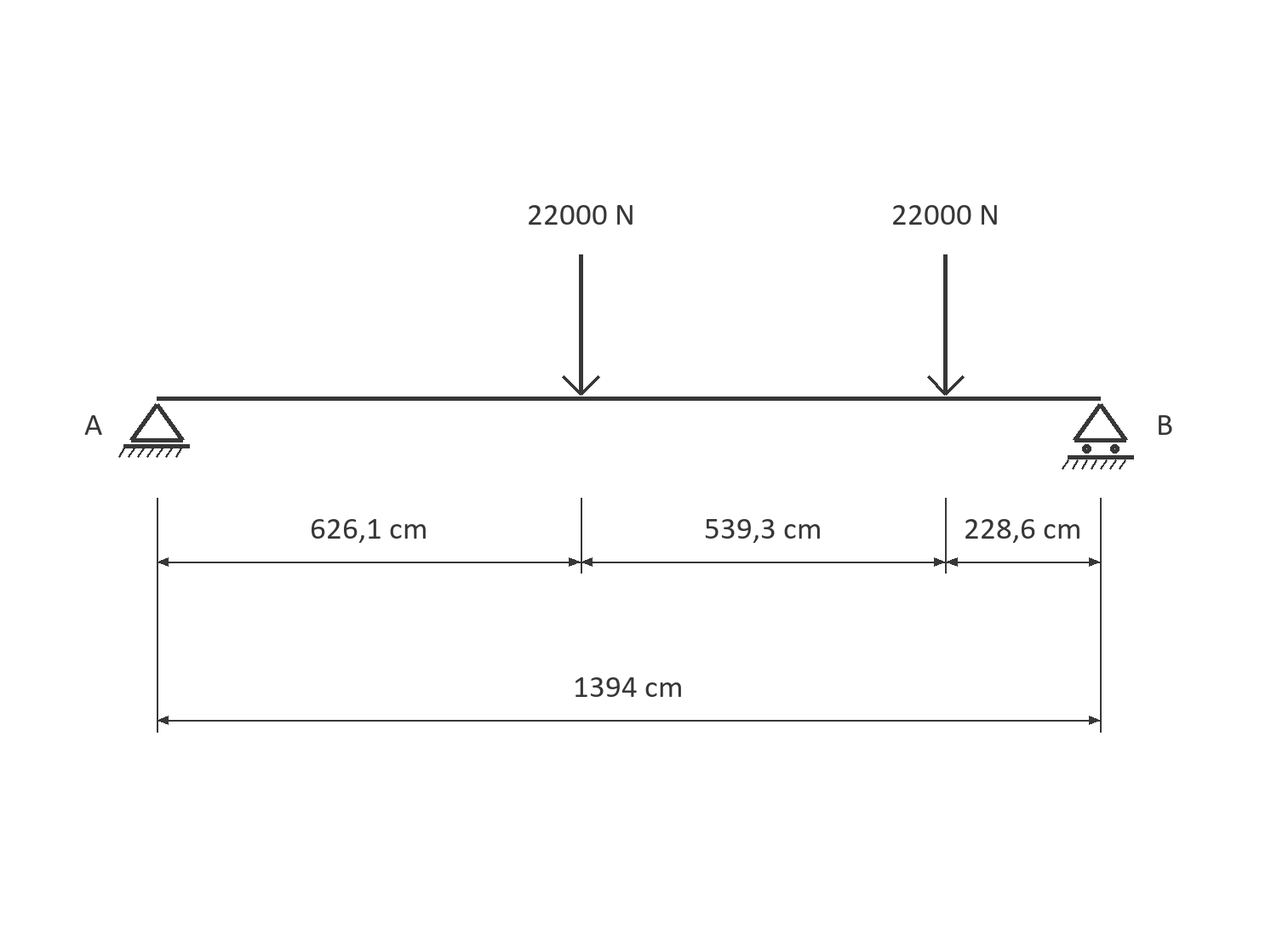pin_support: (118, 403, 190, 458)
point_load: (562, 254, 600, 396), (927, 254, 965, 396)
roller_support: (1062, 403, 1134, 470)
